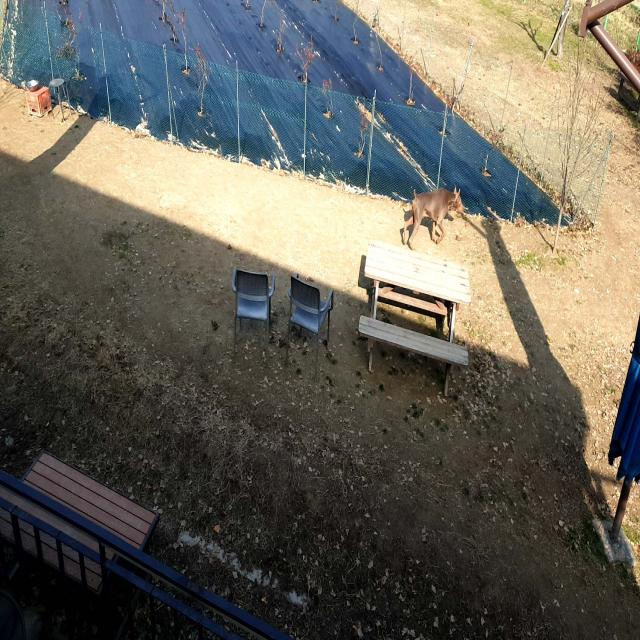Dog: (404, 186, 463, 250)
